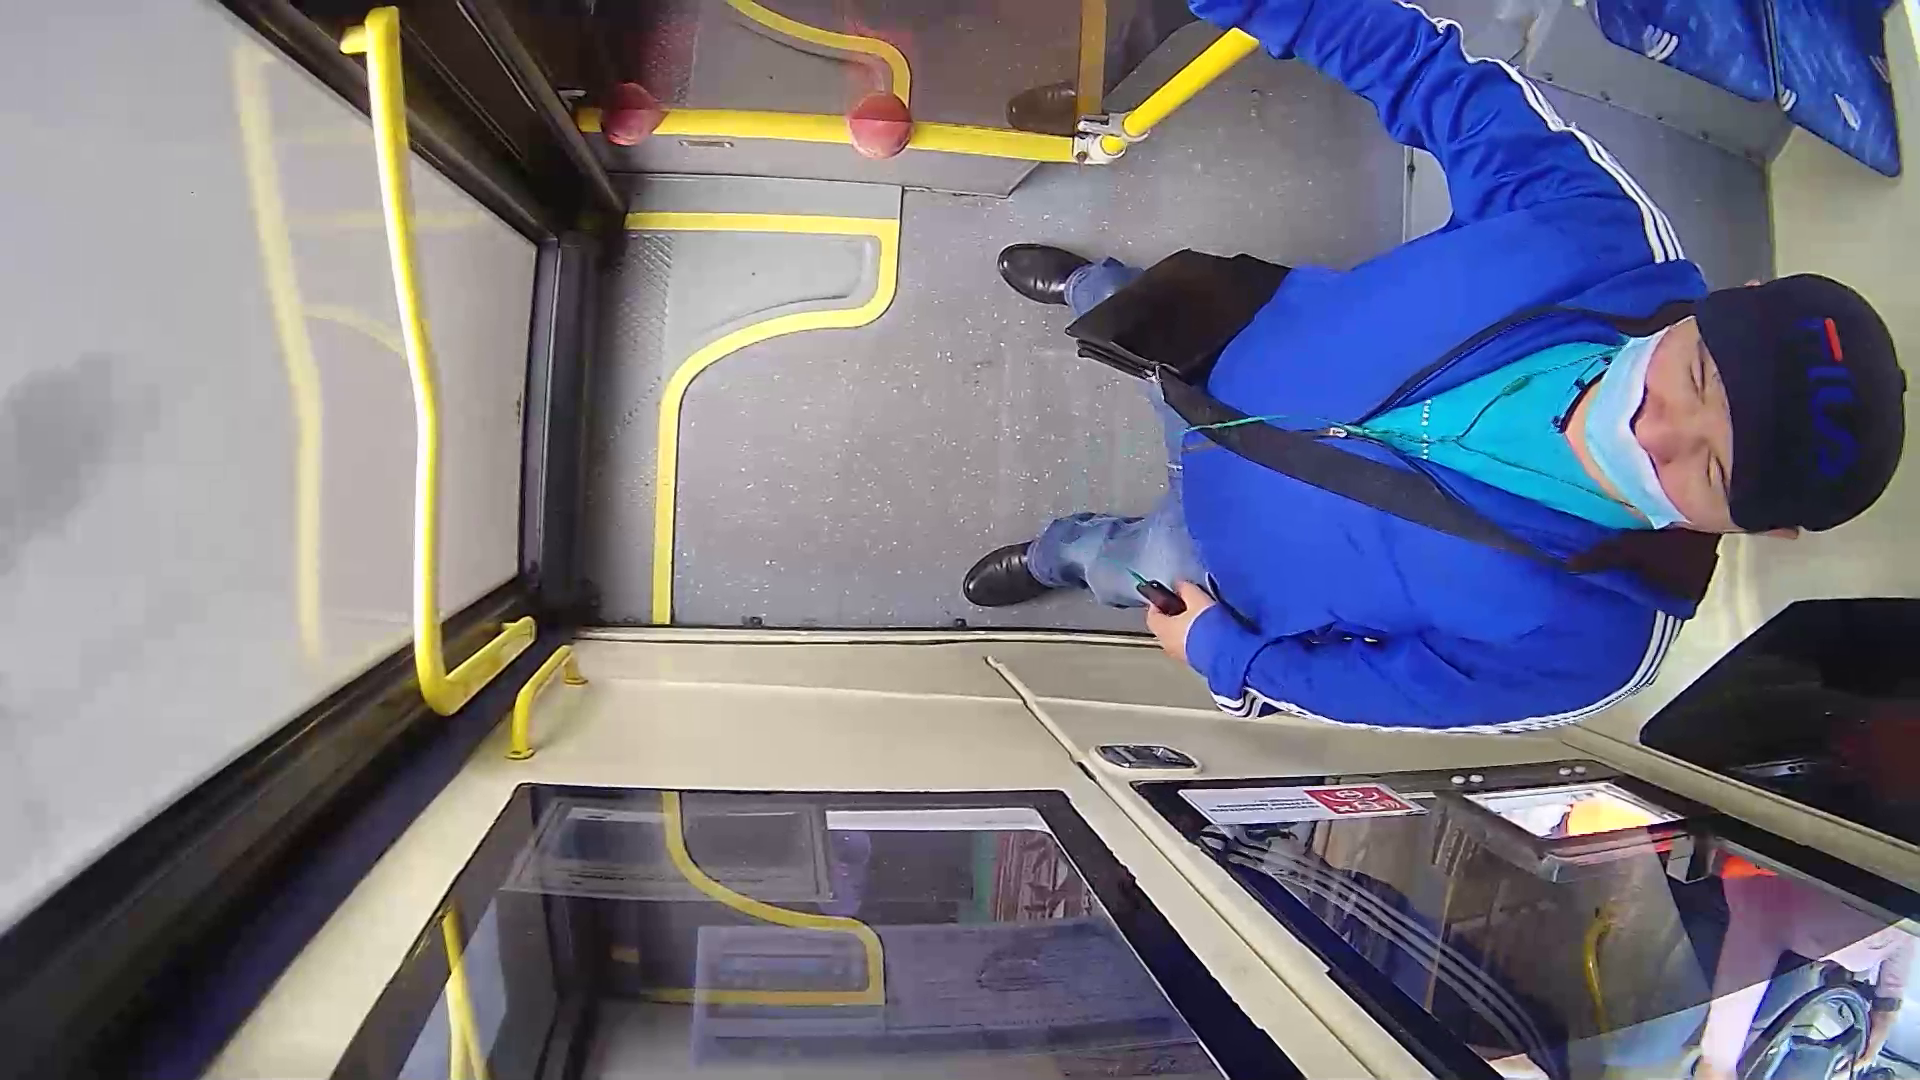person: (997, 68, 1880, 732)
